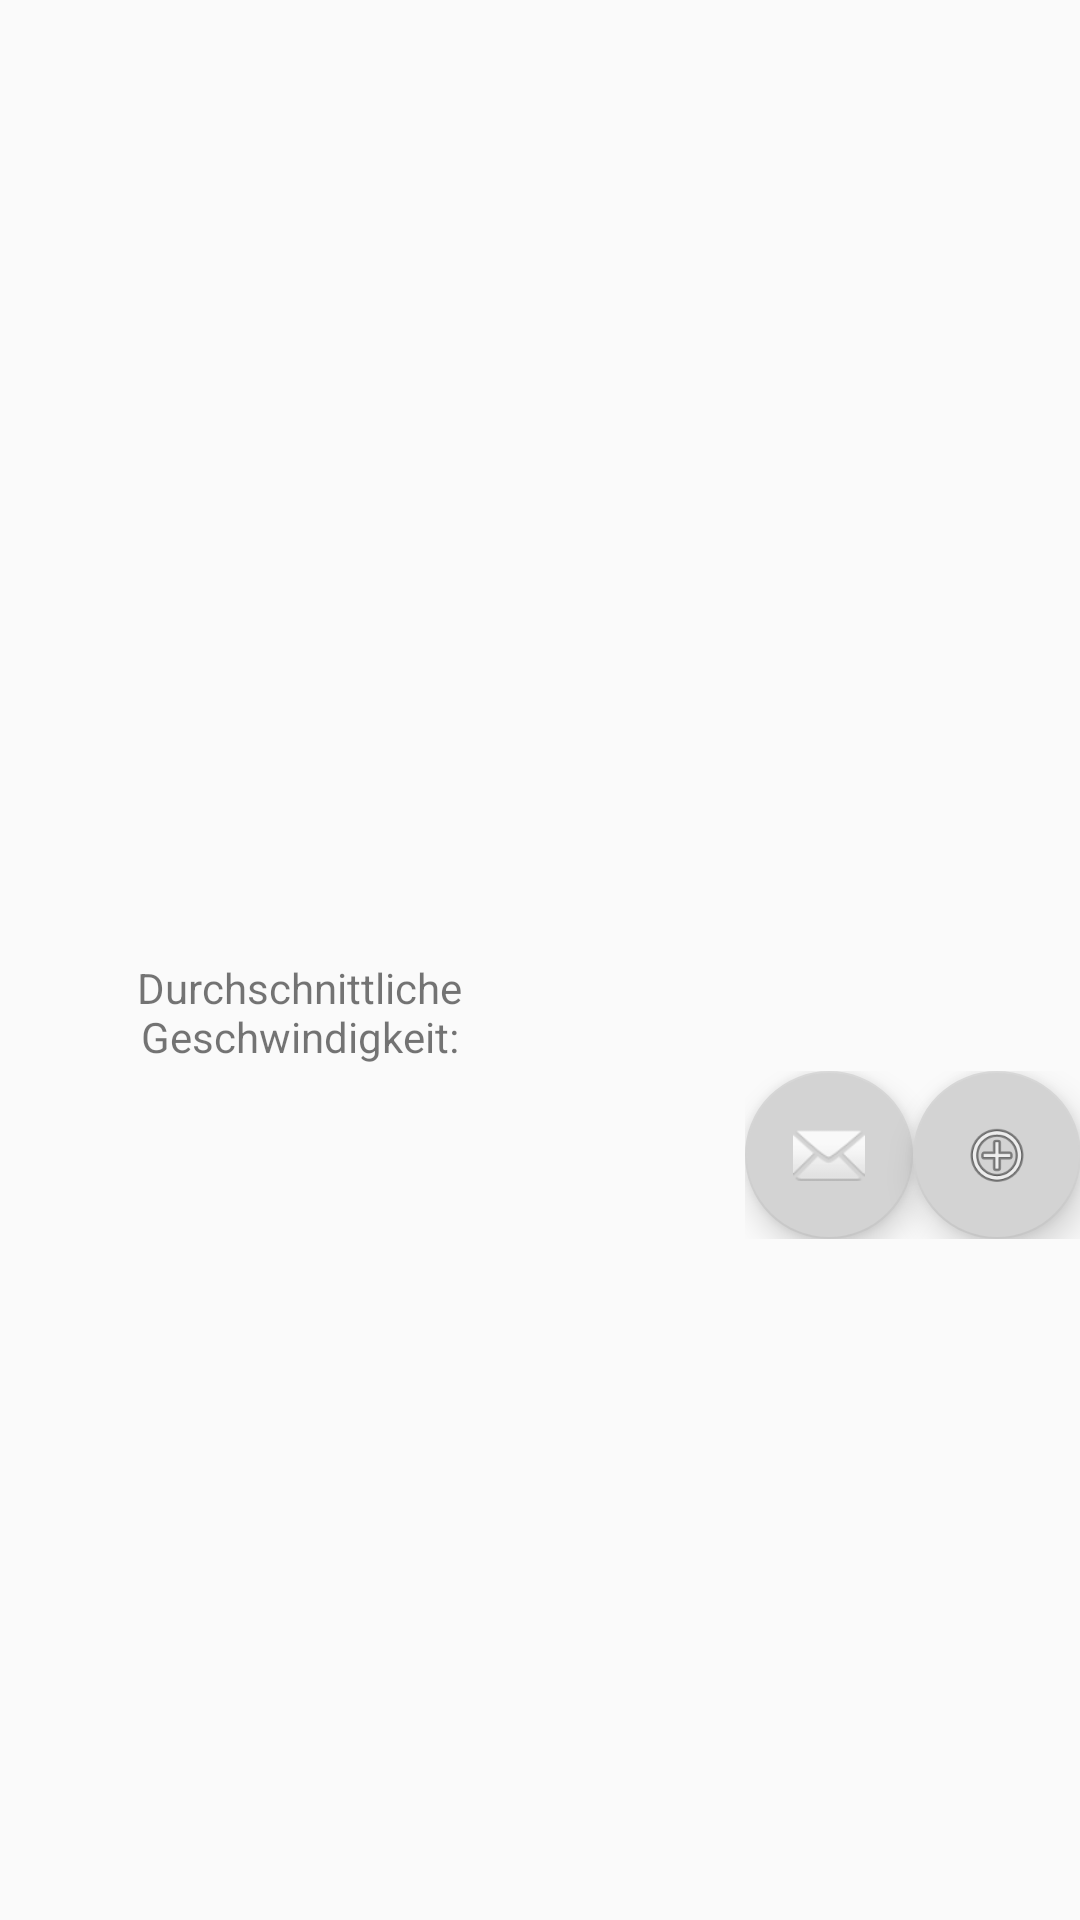

Where to tap for icons on this 1080px x 1920px app screen, as point (x, y):
add: point (996, 1155)
email: point (829, 1155)
